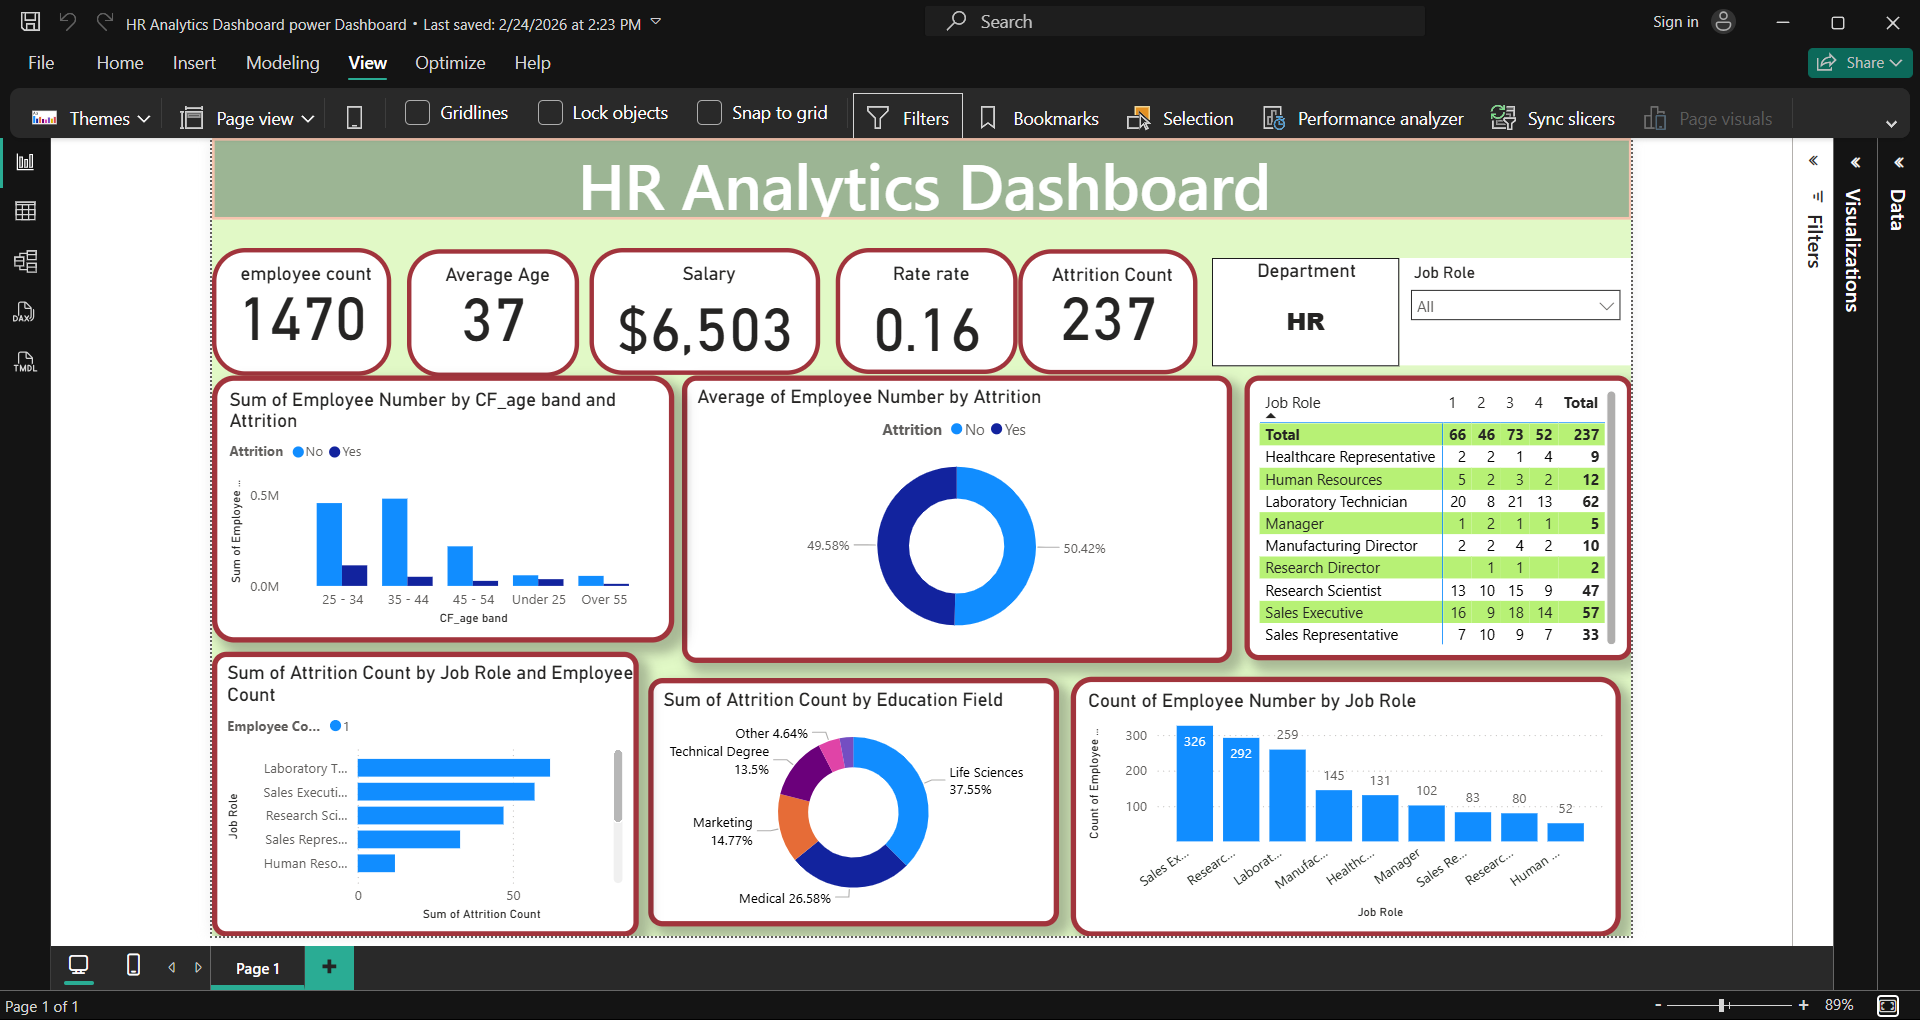

What the dashboard file says about the page in this screenshot:
{"tool":"powerbi","page":{"name":"Page 1","canvas":[1280,720],"ordinal":0},"visuals":[{"type":"card","title":"employee count","fields":{"Values":["Sum(HR data.Employee Count)"]},"box":[0,99,161.6,115.2],"z":0},{"type":"card","title":"Attrition Count","fields":{"Values":["HR data.Attrition Counts"]},"box":[726.6,100.2,161.6,112.7],"z":1000},{"type":"card","title":"Rate rate","fields":{"Values":["HR data.Attrition Rate"]},"box":[562.3,99.5,164.2,113.2],"z":2000},{"type":"card","title":"Average Age","fields":{"Values":["Avg(HR data.Age)"]},"box":[175.4,100.2,155.3,115.2],"z":3000},{"type":"card","title":"Salary","fields":{"Values":["Avg(HR data.Monthly Income)"]},"box":[340.8,99.5,207.7,114.4],"z":4000},{"type":"donutChart","fields":{"Category":["HR data.Education Field"],"Y":["Sum(HR data.Attrition Count)"]},"box":[393.1,486.4,370.7,223.9],"z":5000},{"type":"donutChart","fields":{"Category":["HR data.Attrition"],"Y":["Avg(HR data.Employee Number)"]},"box":[423.4,214.2,496.1,259.3],"z":6000},{"type":"clusteredColumnChart","fields":{"Category":["HR data.Job Role"],"Y":["CountNonNull(HR data.Employee Number)"]},"box":[774.2,486,496.1,234.3],"z":7000},{"type":"lineClusteredColumnComboChart","fields":{"Category":["HR data.CF_age band"],"Series":["HR data.Attrition"],"Y":["Sum(HR data.Employee Number)"]},"box":[0,214.2,417.1,240.5],"z":8000},{"type":"pivotTable","fields":{"Rows":["HR data.Job Role"],"Columns":["HR data.Job Satisfaction"],"Values":["HR data.Attrition Counts"]},"box":[930.8,214.2,349.5,256.8],"z":9000},{"type":"barChart","fields":{"Y":["Sum(HR data.Attrition Count)"],"Category":["HR data.Job Role"],"Series":["HR data.Employee Count"]},"box":[0,463.5,384.6,256.8],"z":10000},{"type":"textbox","title":"HR Analytics Dashboard","box":[0,0,1280,73.3],"z":11000},{"type":"slicer","fields":{"Values":["HR data.Job Role"]},"box":[1071.1,107.7,209.2,96.5],"z":12000},{"type":"card","title":"Department","fields":{"Values":["Min(HR data.Department)"]},"box":[901.9,107.7,169.1,97.7],"z":13000}]}

Visuals, with their boxes on the page's 1280x720 design canvas (x1, y1, x2, y2). These are canvas units, not pixel positions in the 1920x1020 screenshot, which may show the page scaled, cropped or inside an application window:
"employee count" card: [left=0, top=99, right=162, bottom=214]
"Attrition Count" card: [left=727, top=100, right=888, bottom=213]
"Rate rate" card: [left=562, top=100, right=726, bottom=213]
"Average Age" card: [left=175, top=100, right=331, bottom=215]
"Salary" card: [left=341, top=100, right=548, bottom=214]
donutChart - HR data.Education Field x Sum(HR data.Attrition Count): [left=393, top=486, right=764, bottom=710]
donutChart - HR data.Attrition x Avg(HR data.Employee Number): [left=423, top=214, right=920, bottom=474]
clusteredColumnChart - HR data.Job Role x CountNonNull(HR data.Employee Number): [left=774, top=486, right=1270, bottom=720]
lineClusteredColumnComboChart - HR data.CF_age band x HR data.Attrition: [left=0, top=214, right=417, bottom=455]
pivotTable - HR data.Job Role x HR data.Job Satisfaction: [left=931, top=214, right=1280, bottom=471]
barChart - Sum(HR data.Attrition Count) x HR data.Job Role: [left=0, top=464, right=385, bottom=720]
"HR Analytics Dashboard" textbox: [left=0, top=0, right=1280, bottom=73]
slicer - HR data.Job Role: [left=1071, top=108, right=1280, bottom=204]
"Department" card: [left=902, top=108, right=1071, bottom=205]
